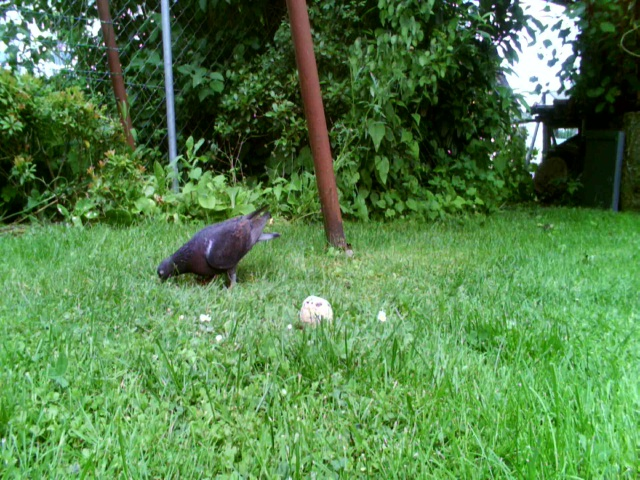Pigeon: (155, 195, 283, 292)
